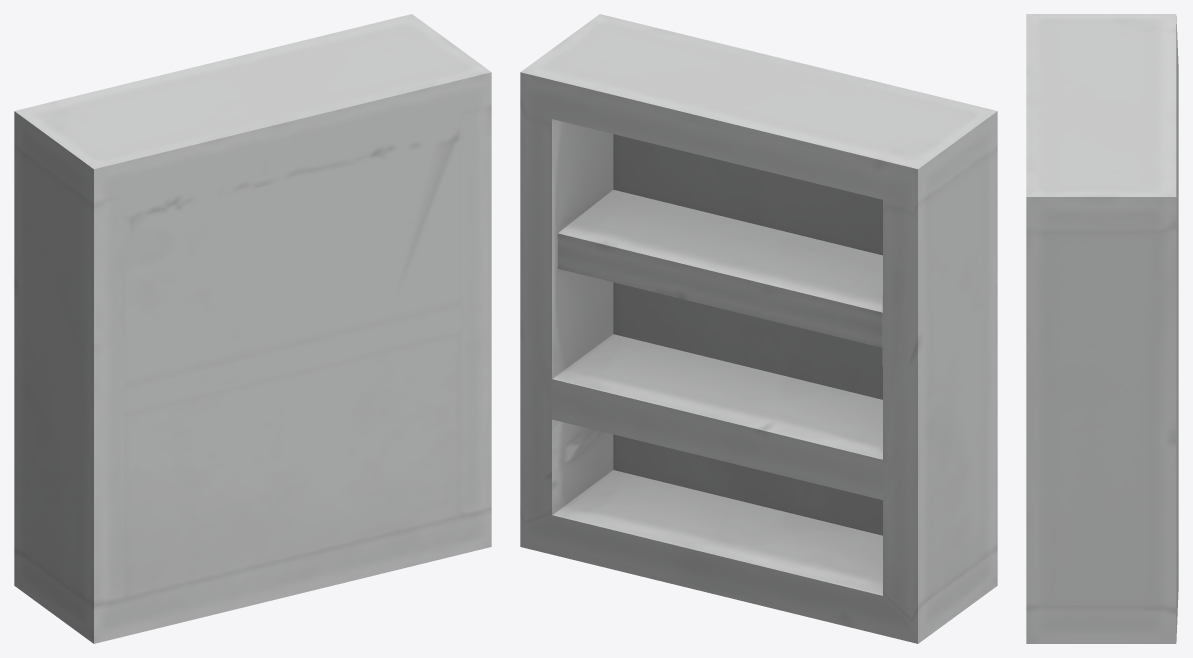
The model's file is Pfb_Indoors_Study_Shelf__4.fbx.
The picture shows the model from 3 angles, left to right: view 1: azimuth 30°, elevation 25°; view 2: azimuth 150°, elevation 25°; view 3: azimuth 270°, elevation 25°; orthographic projection. The views are drawn at different scales.
Parts seen in each view (by area): view 1: Mat_Indoors_Study_01_2_JLAB 1; view 2: Mat_Indoors_Study_01_2_JLAB 1; view 3: Mat_Indoors_Study_01_2_JLAB 1.
Part boxes in pixels (left/top/right/bottom): Mat_Indoors_Study_01_2_JLAB 1: left=14, top=14, right=491, bottom=643; Mat_Indoors_Study_01_2_JLAB 1: left=520, top=14, right=997, bottom=643; Mat_Indoors_Study_01_2_JLAB 1: left=1026, top=14, right=1178, bottom=643.
Size of the model in its own units: 1.77 by 2.01 by 0.6209.
1 material, 1 textured.
